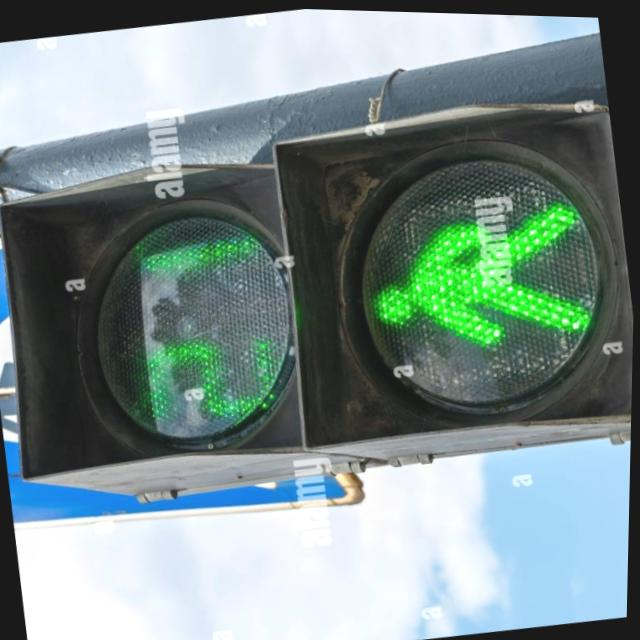green_light: (342, 183, 602, 371)
